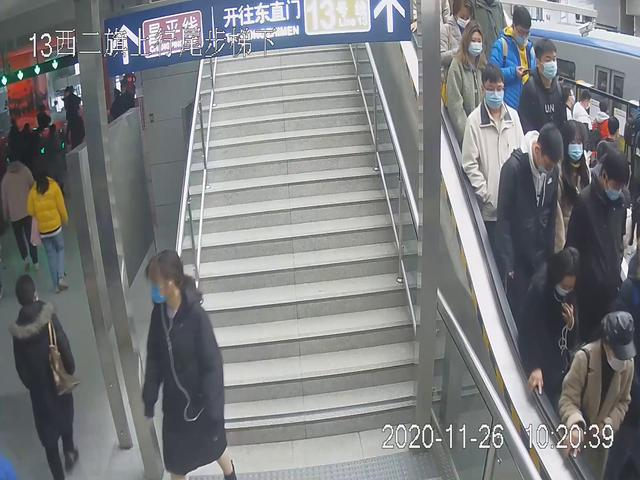person: (139, 247, 239, 480), (10, 271, 80, 480), (494, 123, 568, 319), (560, 300, 640, 480), (459, 65, 530, 264), (572, 148, 631, 328)
